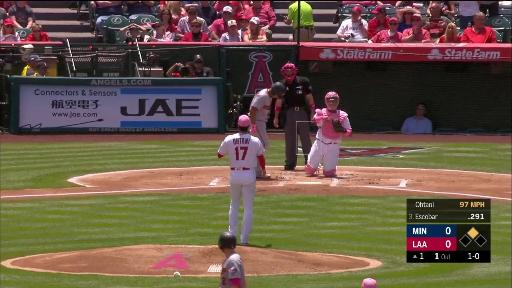pitcher: (216, 114, 266, 249)
